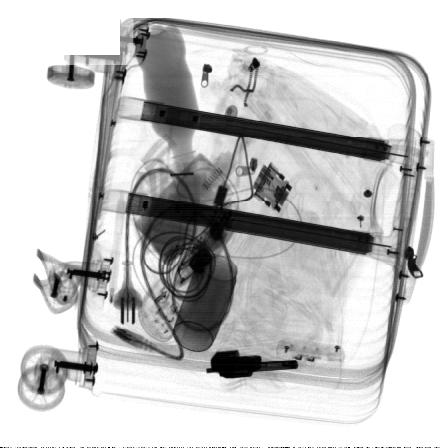Gun: (205, 351, 298, 379)
